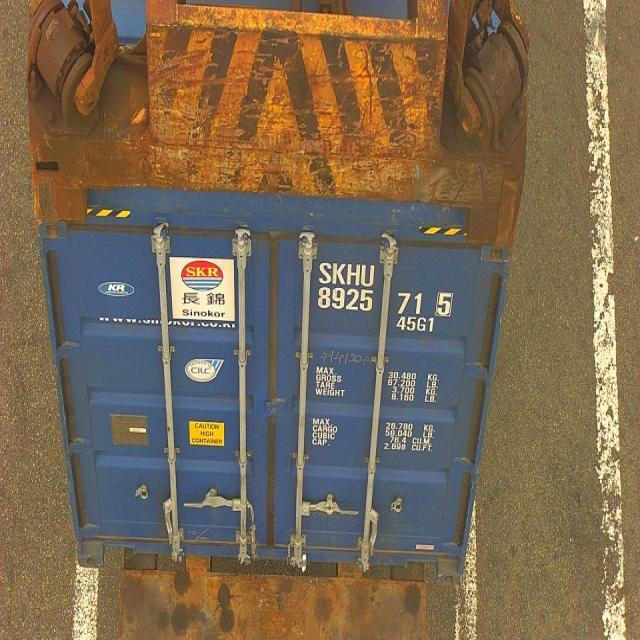ISO: (396, 318, 434, 332)
container_number: (317, 253, 454, 316)
